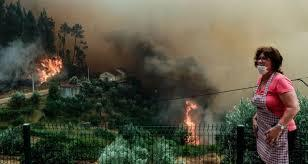fire: (181, 98, 203, 144), (32, 55, 63, 82)
yanwu: (82, 20, 209, 125), (0, 41, 39, 81)
